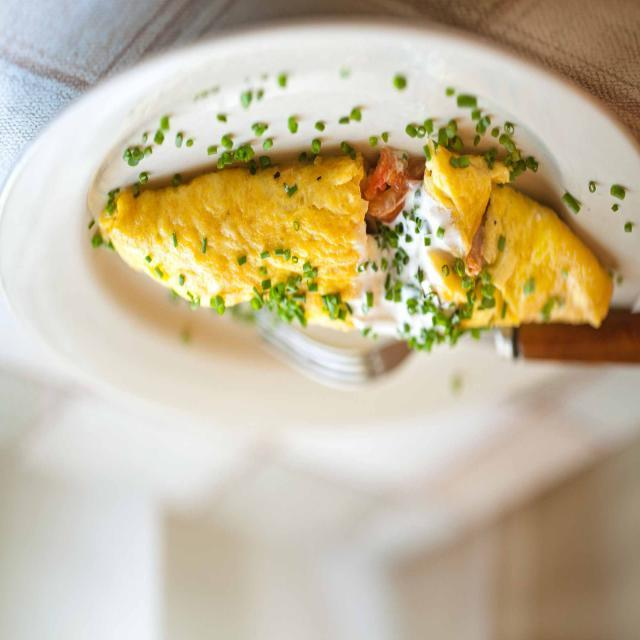telur_ayam_dadar: (98, 142, 614, 352)
